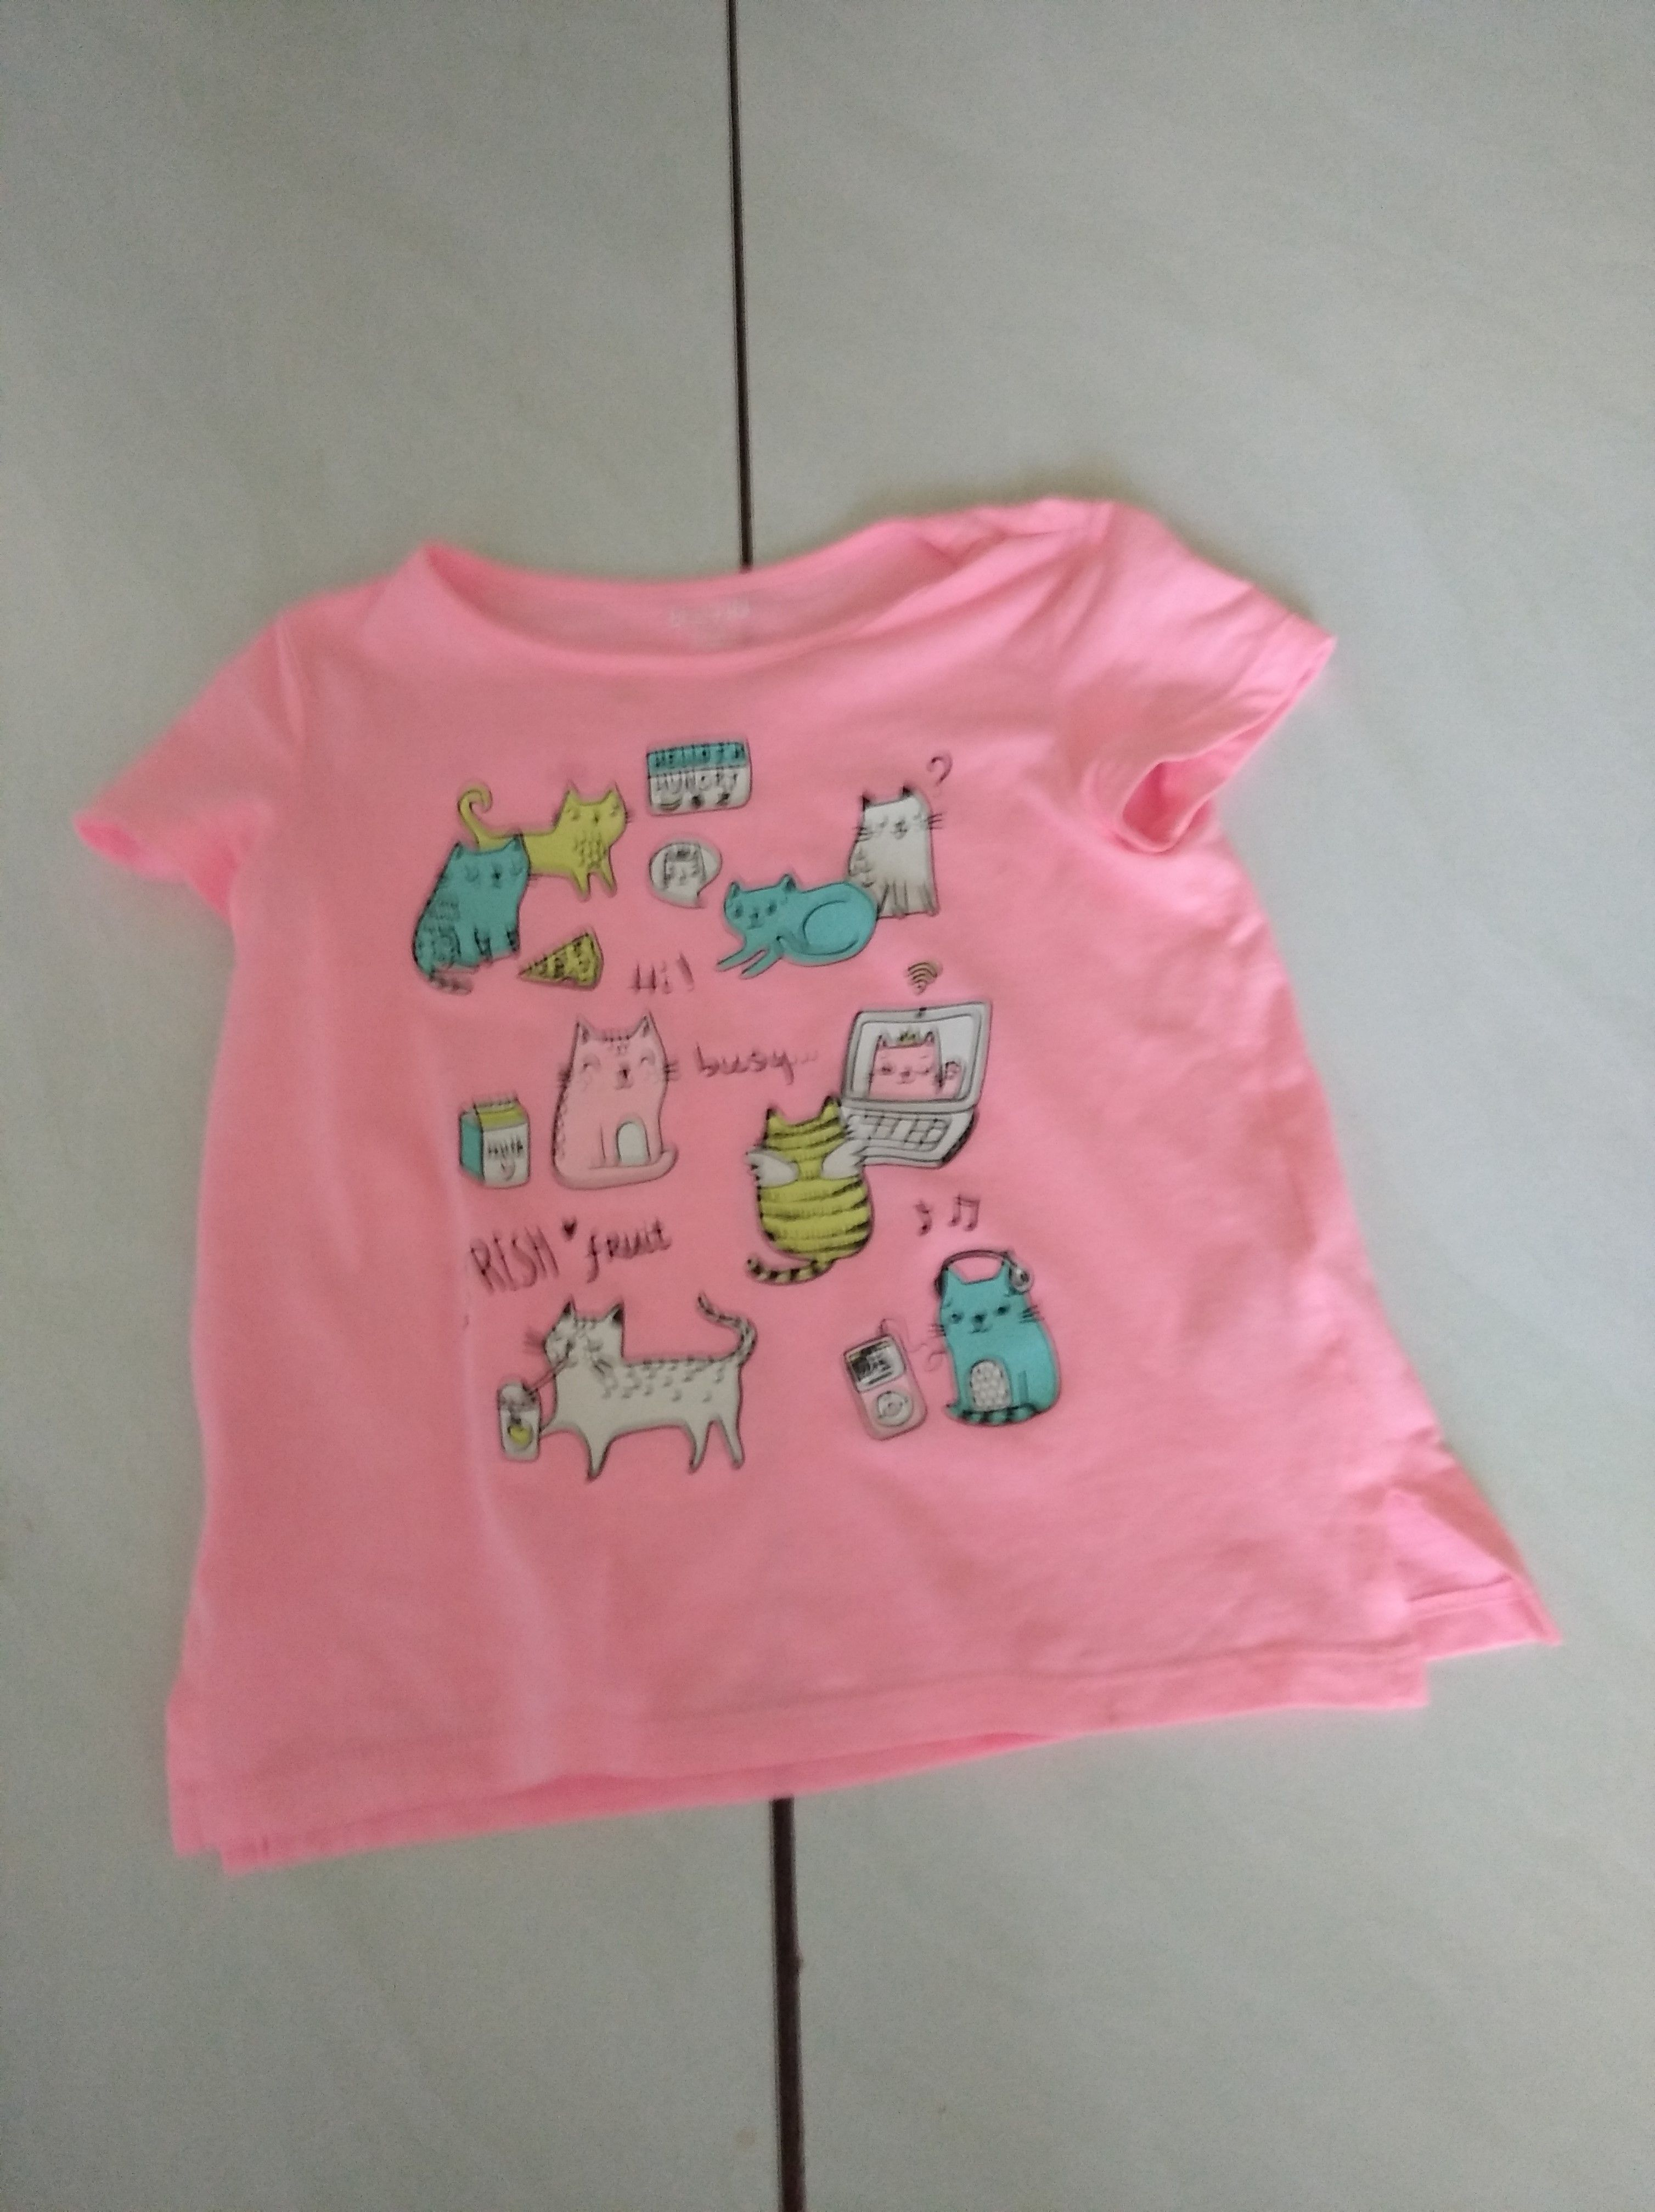clothes: (50, 497, 1566, 1831)
